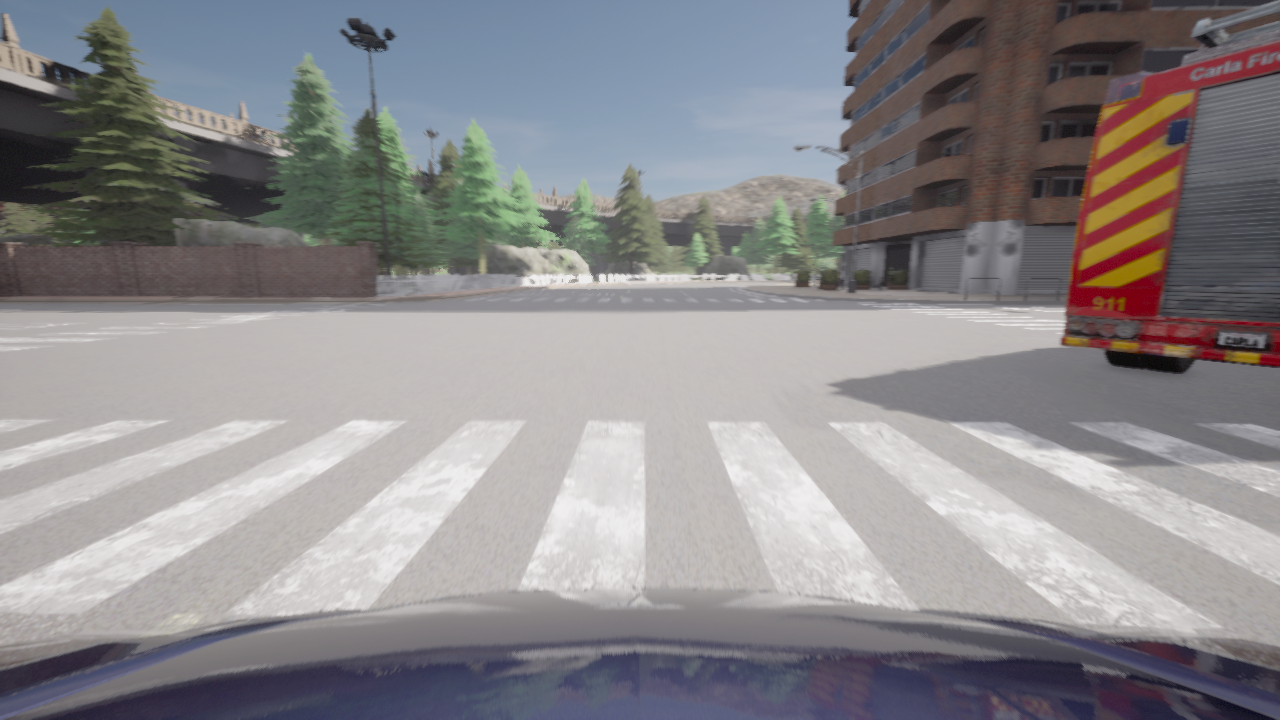cyclist: (0, 588, 1279, 719), (1061, 1, 1279, 372)
